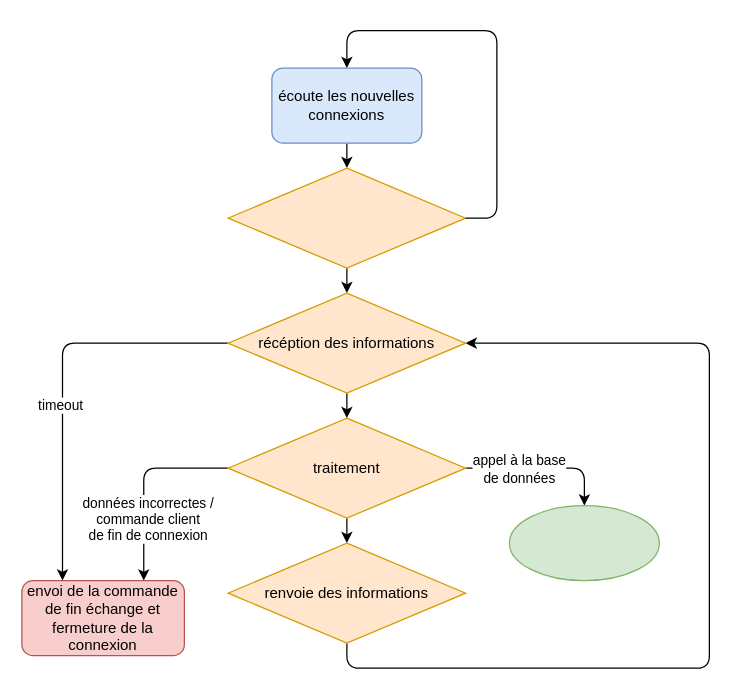
This 741x700 diagram has some shape labels left out. Each missing label, with the box of its shape:
Base de données: (508, 504, 659, 581)
lancement d'un thread pour chaque connexion: (227, 167, 466, 268)
